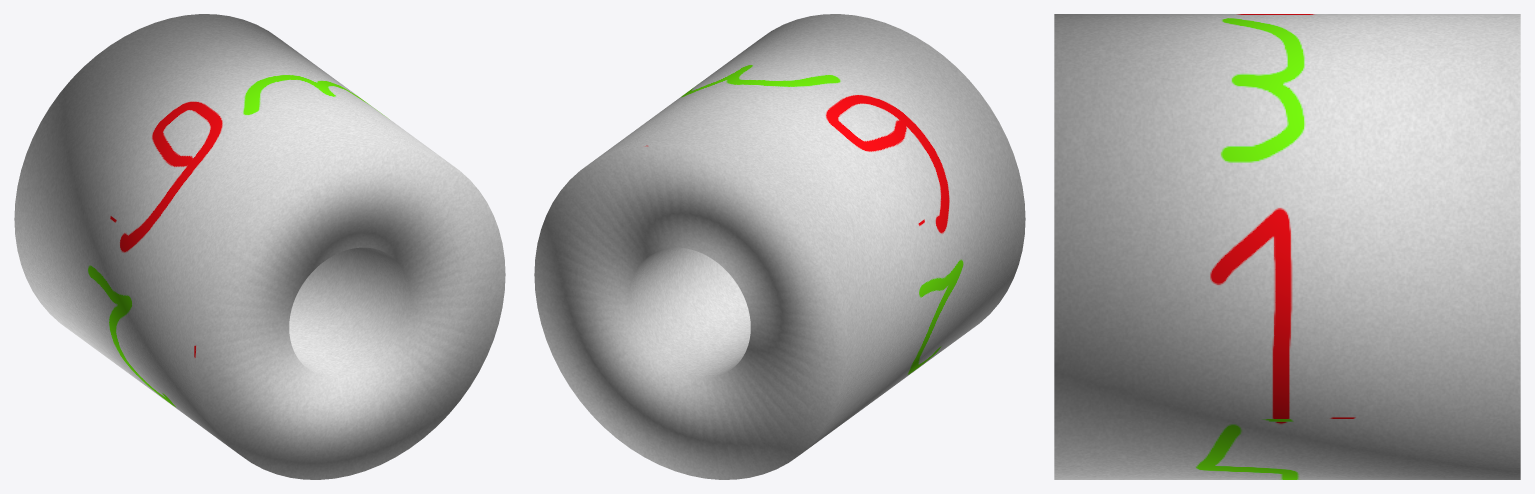
The model's file is toilet_paper_mystery_2.glb.
3 views of the same model, side by side, from view 1: azimuth 30°, elevation 25°; view 2: azimuth 150°, elevation 25°; view 3: azimuth 270°, elevation 25° (orthographic). The views are drawn at different scales.
Parts seen in each view (by area): view 1: Cylinder; view 2: Cylinder; view 3: Cylinder.
Boxes of the visible parts, x1,y1,x2,y2 form: Cylinder: (14,14,505,479); Cylinder: (534,14,1025,479); Cylinder: (1054,14,1520,479).
Bounding box in the file's own units: 0.7045 × 0.7045 × 0.7045.
1 material, 1 textured.
